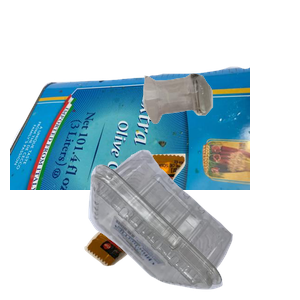glass: (141, 71, 300, 187)
metal: (10, 64, 250, 244)
plastic: (86, 147, 300, 300)
trash: (82, 151, 260, 300)
